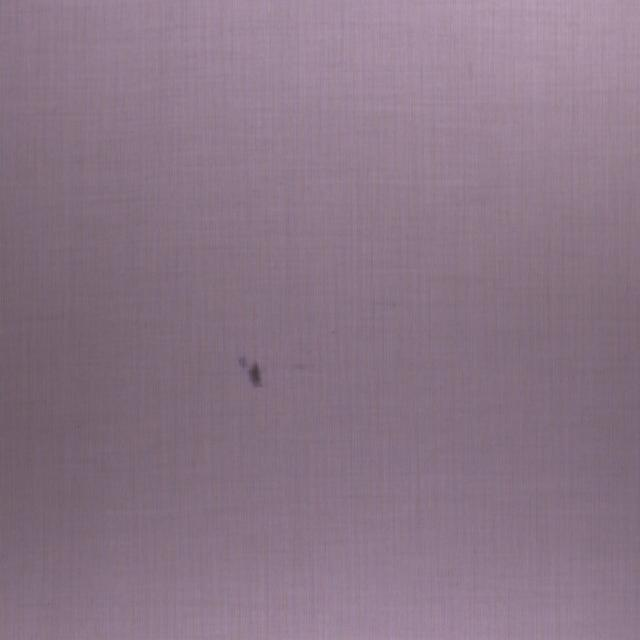dirty: (239, 352, 263, 391)
